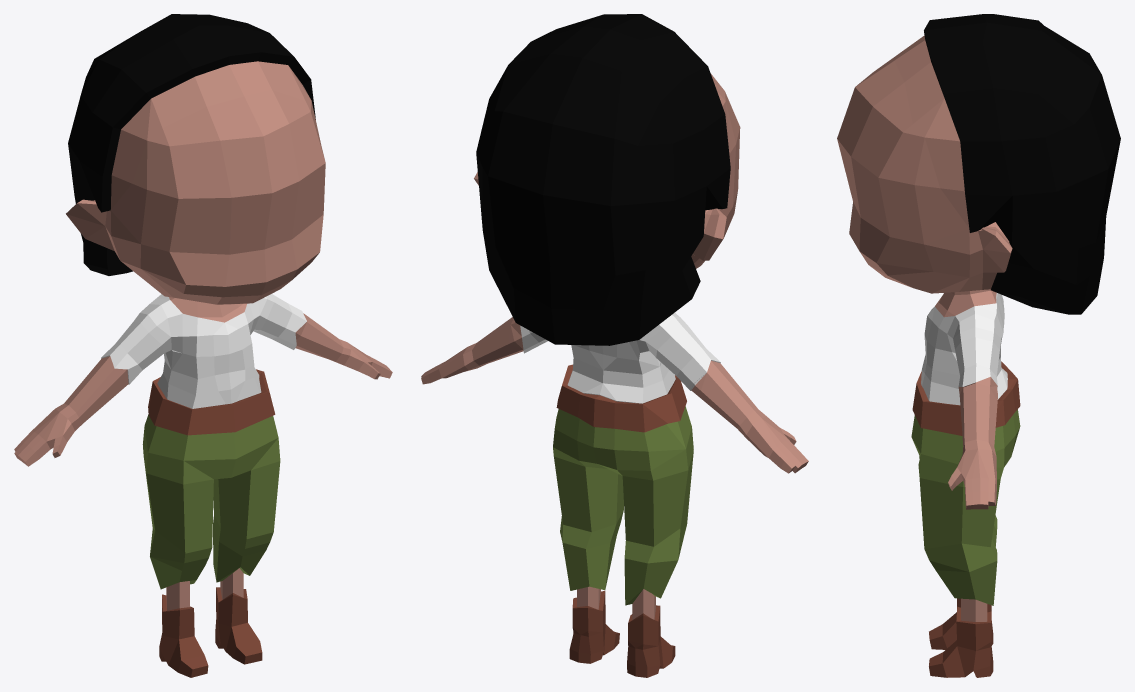
File: piirata DEFINITIVO.FBX
3 views of the same model, side by side, from view 1: azimuth 30°, elevation 25°; view 2: azimuth 150°, elevation 25°; view 3: azimuth 270°, elevation 25° (orthographic). The views are drawn at different scales.
Visible parts, largest first — view 1: pCube3; view 2: pCube3; view 3: pCube3.
Part boxes in pixels (x1=…): pCube3: x1=14, y1=14, x2=392, y2=677; pCube3: x1=421, y1=14, x2=808, y2=677; pCube3: x1=837, y1=14, x2=1120, y2=677.
Bounding box in the file's own units: 1.73 × 2.8 × 1.13.
1 material, 1 textured.
